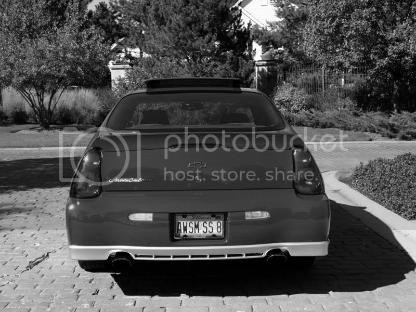license plate: (169, 209, 229, 242)
